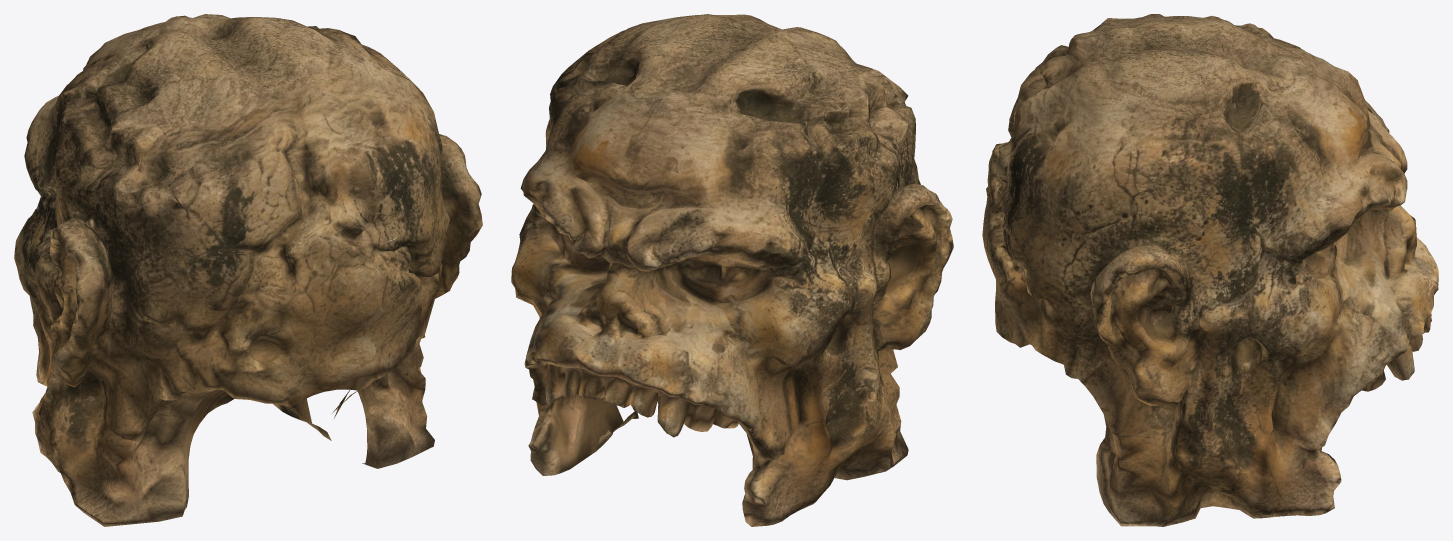
Rendered from monkey-head.glb.
3 views of the same model, side by side, from view 1: azimuth 30°, elevation 25°; view 2: azimuth 150°, elevation 25°; view 3: azimuth 270°, elevation 25° (orthographic). The views are drawn at different scales.
Parts seen in each view (by area): view 1: monkey-head; view 2: monkey-head; view 3: monkey-head.
Boxes of the visible parts, x1,y1,x2,y2 form: monkey-head: (14,14,482,526); monkey-head: (511,14,953,526); monkey-head: (982,14,1438,526).
Bounding box in the file's own units: 29.47 × 30 × 29.88.
1 material, 1 textured.
